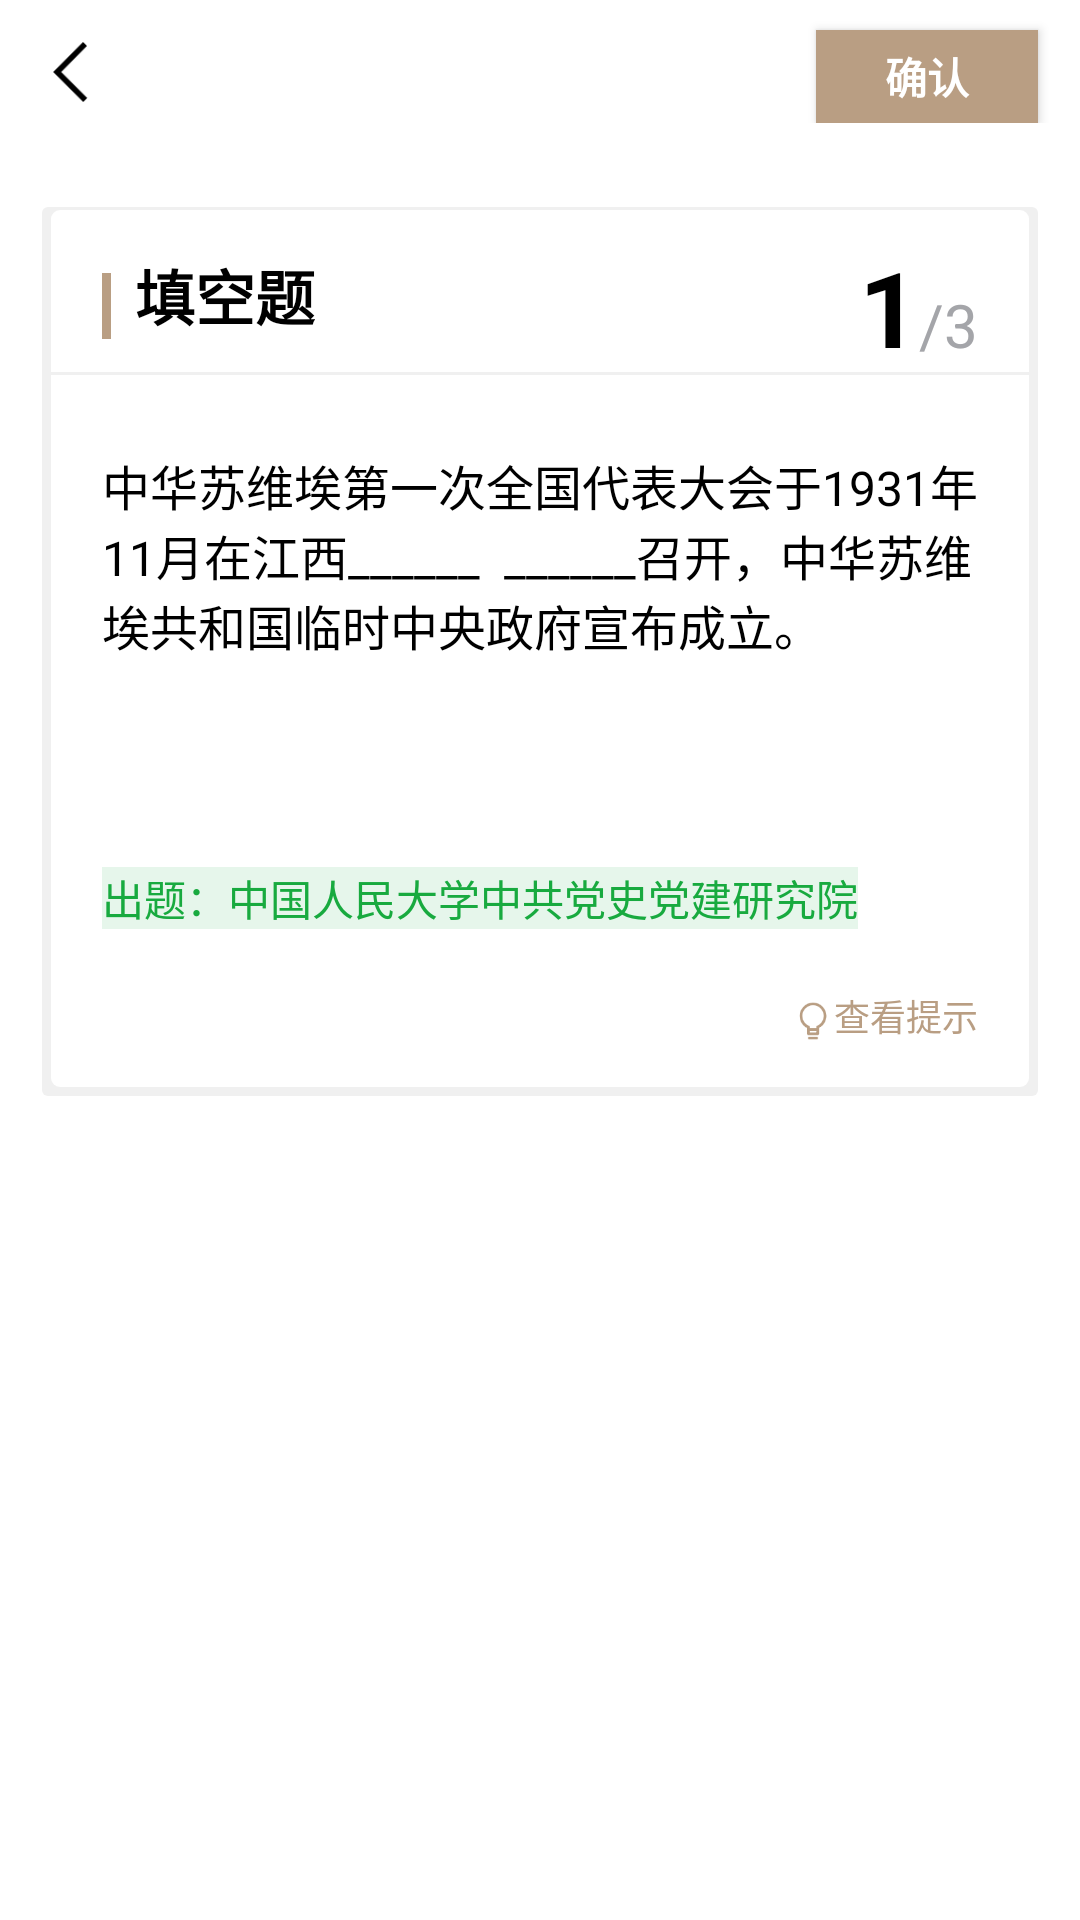

Locate icon controls on the screen. Image size 1080w x 1920h, boxes as BBox(x1, y1, x2, y2).
tis: BBox(800, 1002, 827, 1040)
